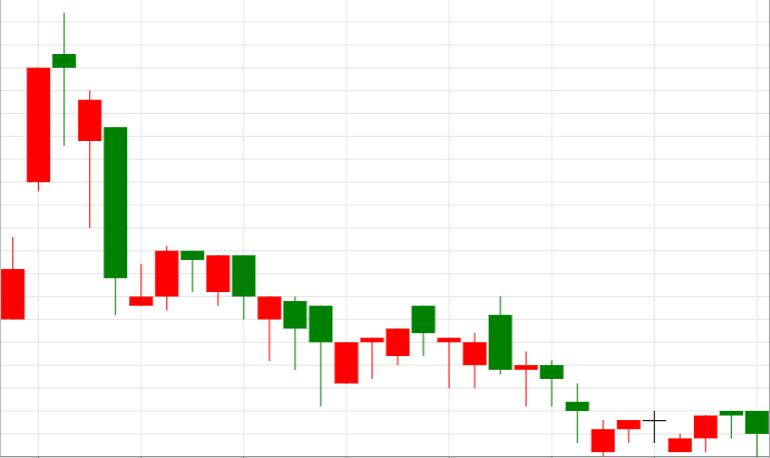hammer_rise: (104, 127, 332, 406)
